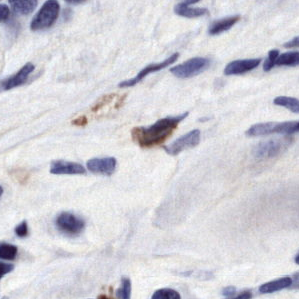Lymphocyte: (134, 115, 180, 145)
